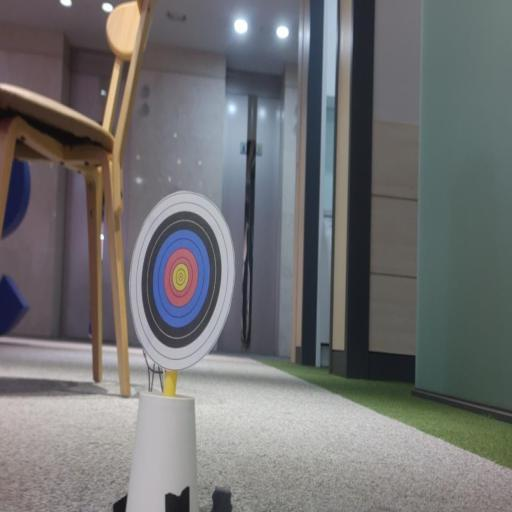target: (130, 191, 234, 370)
